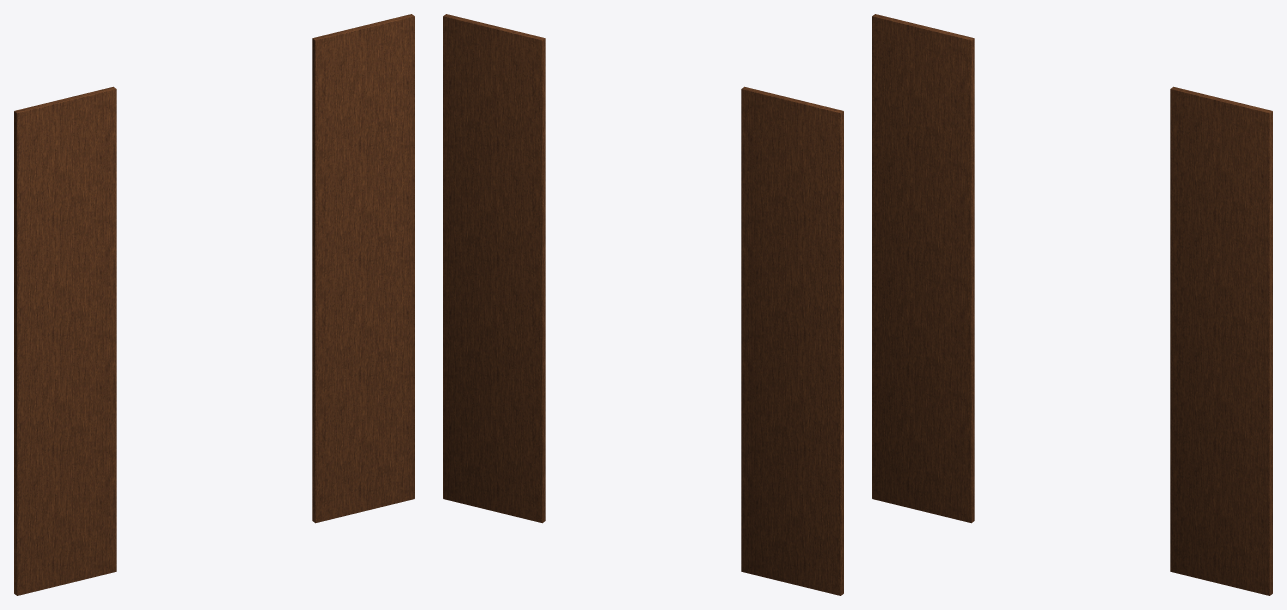
The model's file is landing_door_TM030.glb.
3 views of the same model, side by side, from view 1: azimuth 30°, elevation 25°; view 2: azimuth 150°, elevation 25°; view 3: azimuth 330°, elevation 25° (orthographic).
Visible parts, largest first — view 1: Landing_Door_L, Landing_Door_R; view 2: Landing_Door_L, Landing_Door_R; view 3: Landing_Door_L, Landing_Door_R.
Boxes of the visible parts, box(x1,y1,x2,y2) form: Landing_Door_L: box(14, 86, 116, 595); Landing_Door_R: box(312, 14, 414, 523); Landing_Door_L: box(741, 86, 843, 595); Landing_Door_R: box(443, 14, 545, 523); Landing_Door_L: box(872, 14, 974, 523); Landing_Door_R: box(1170, 86, 1272, 595).
Bounding box in the file's own units: 1.81 × 2.1 × 0.025.
1 material, 1 textured.
